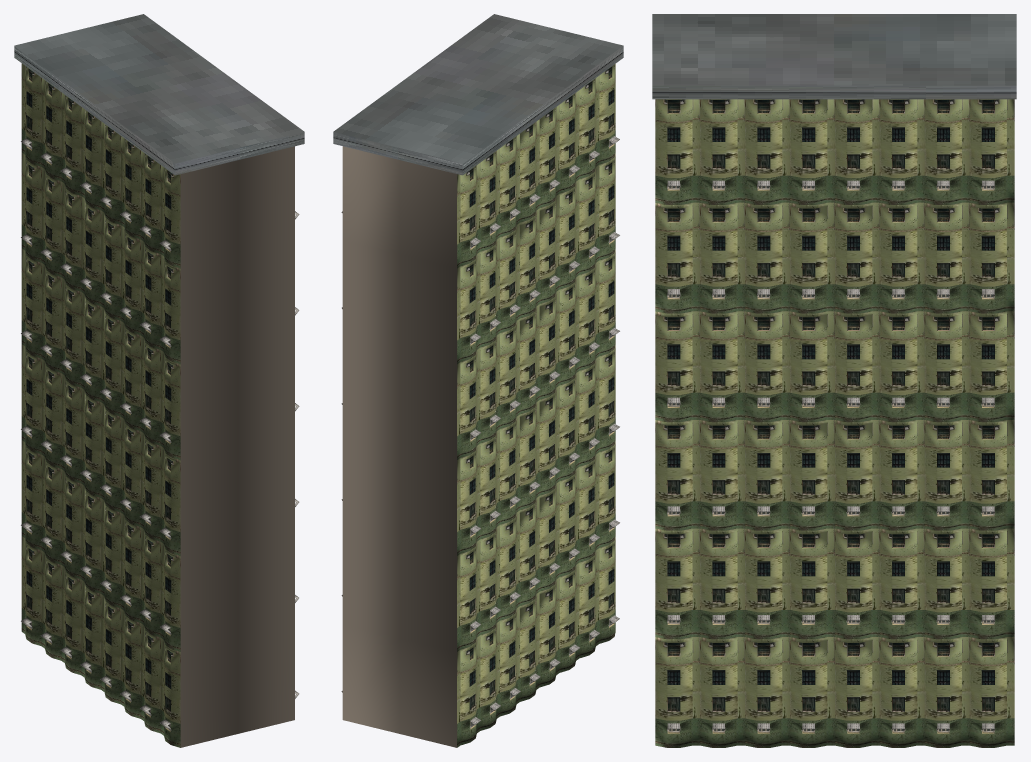
File: BuildingFour.glb
The picture shows the model from 3 angles, left to right: view 1: azimuth 30°, elevation 25°; view 2: azimuth 150°, elevation 25°; view 3: azimuth 270°, elevation 25°; orthographic projection. The views are drawn at different scales.
Visible parts, largest first — view 1: Cube, Cube.001; view 2: Cube, Cube.001; view 3: Cube, Cube.001.
Part boxes in pixels (x1,y1,x2,y2): Cube: (21,63,299,747); Cube.001: (14,14,304,175); Cube: (341,64,619,747); Cube.001: (333,14,623,175); Cube: (655,99,1014,747); Cube.001: (652,14,1016,99).
Bounding box in the file's own units: 47 × 196 × 97.4.
7 materials, 6 textured.
